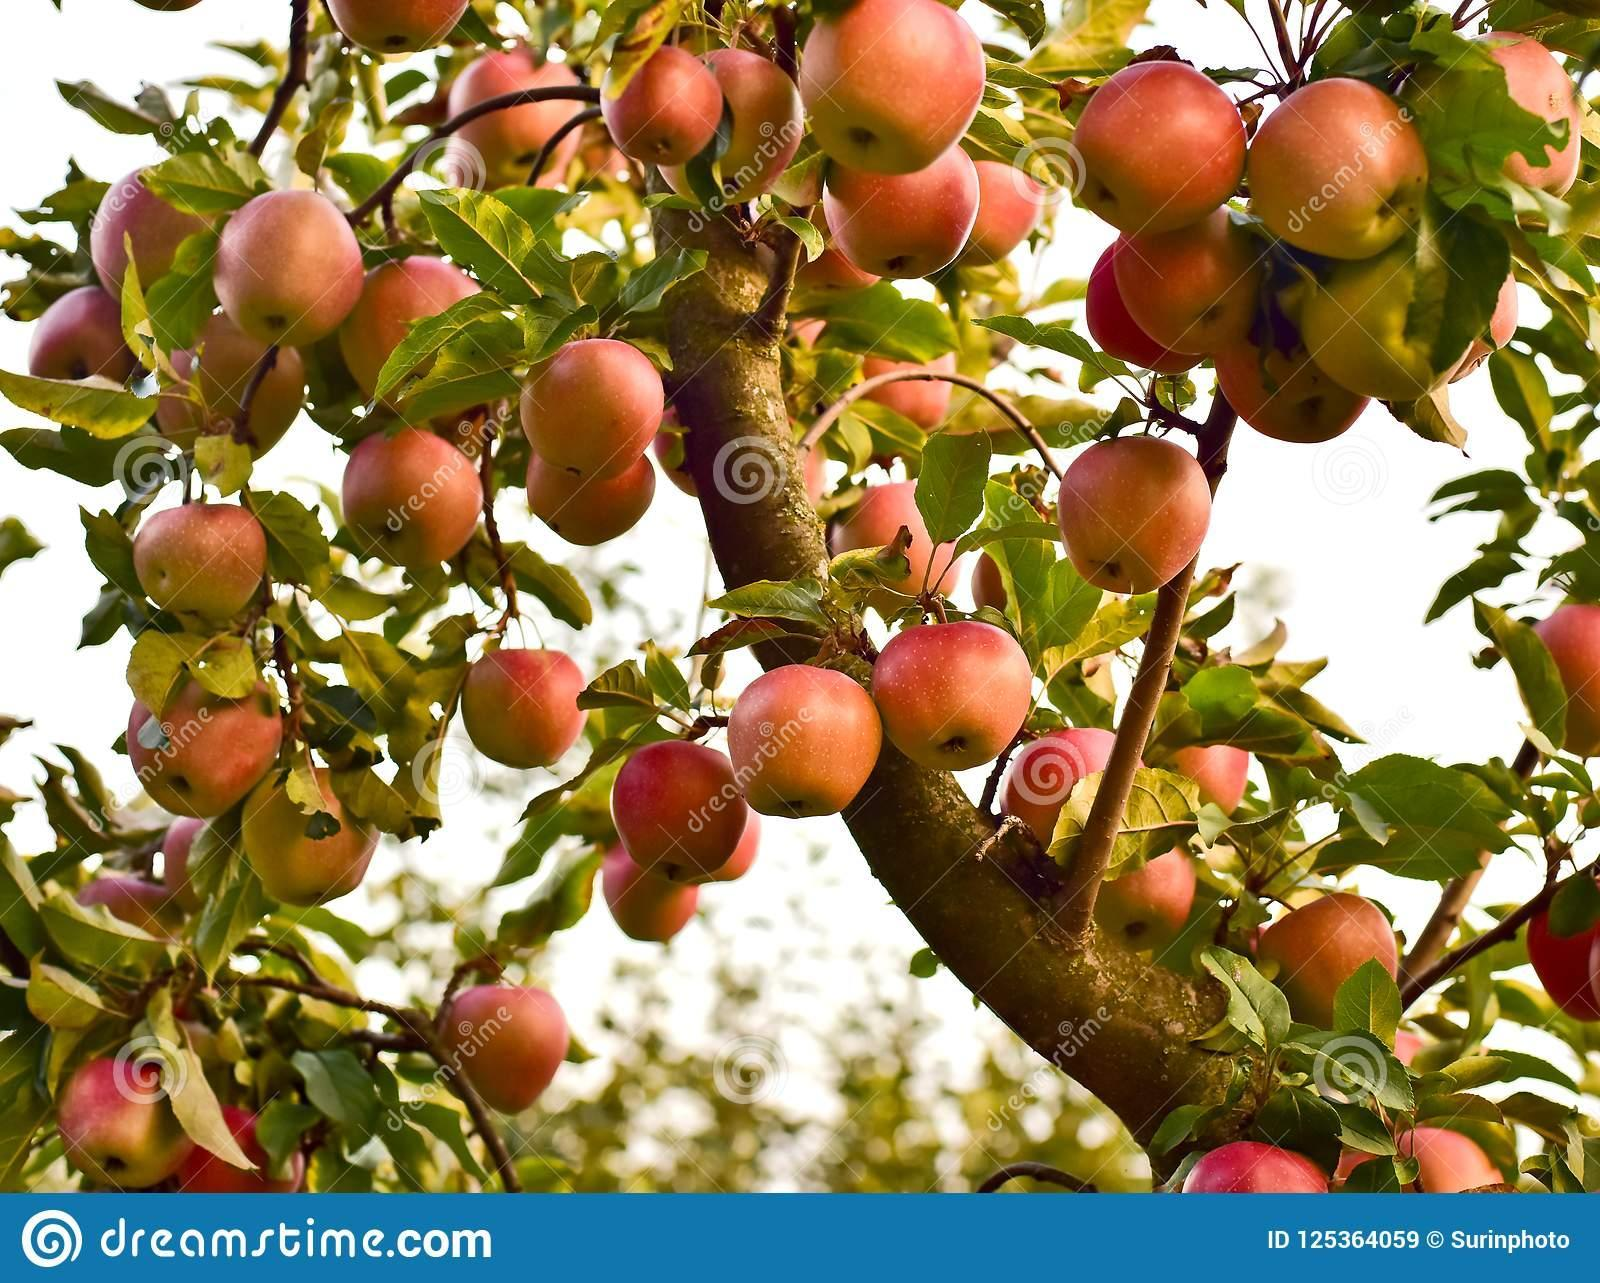apple: (1244, 75, 1430, 261), (1074, 55, 1250, 234), (825, 3, 986, 172), (1055, 435, 1214, 597), (124, 661, 282, 822), (213, 189, 367, 353), (873, 617, 1034, 772), (728, 662, 886, 820), (1112, 200, 1264, 360), (518, 335, 670, 487), (155, 309, 299, 460), (336, 425, 484, 568), (608, 737, 754, 878), (827, 145, 979, 280), (1212, 321, 1376, 444), (58, 1039, 192, 1184), (1258, 890, 1404, 1024), (244, 758, 376, 905), (339, 251, 478, 386), (449, 45, 583, 183), (131, 496, 268, 627), (444, 977, 572, 1111), (92, 166, 213, 305), (522, 441, 665, 549), (464, 647, 591, 767), (839, 473, 961, 594), (605, 47, 725, 164), (1002, 728, 1118, 825), (1097, 844, 1199, 954), (961, 158, 1053, 263)
